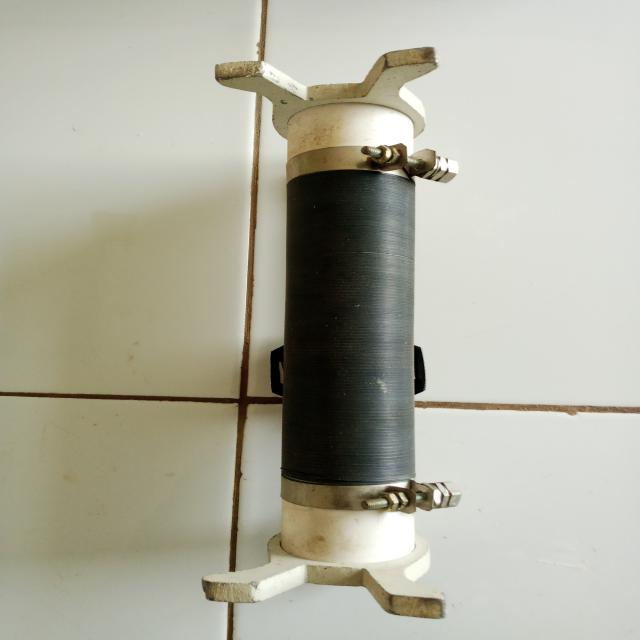Rheostat: (187, 38, 486, 630)
